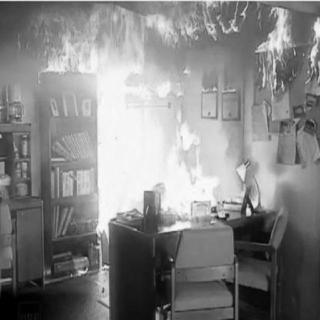Fire: (22, 9, 318, 83), (89, 84, 220, 232)
